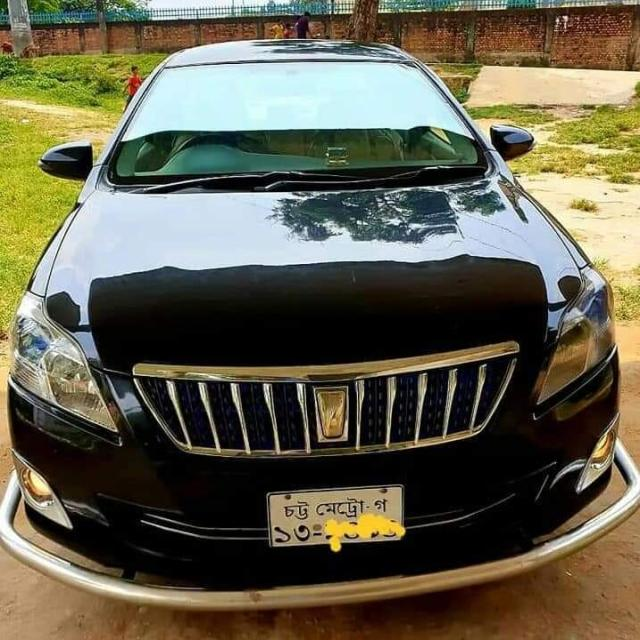black: (23, 36, 628, 598)
